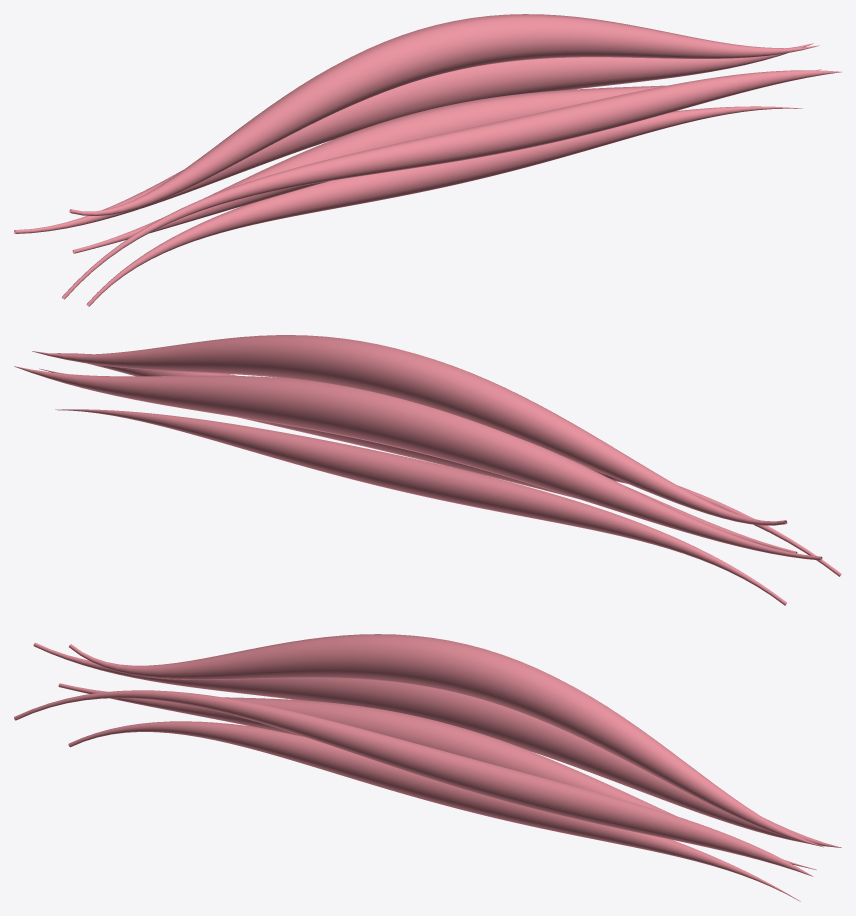
The model's file is Crina De Unicornio.fbx.
3 renders of one model, top to bottom at view 1: azimuth 30°, elevation 25°; view 2: azimuth 150°, elevation 25°; view 3: azimuth 330°, elevation 25°, orthographic.
Parts seen in each view (by area): view 1: Crina de Unicornio - Low; view 2: Crina de Unicornio - Low; view 3: Crina de Unicornio - Low.
Boxes of the visible parts, x1,y1,x2,y2 form: Crina de Unicornio - Low: (14,14,841,306); Crina de Unicornio - Low: (14,335,841,605); Crina de Unicornio - Low: (14,634,841,901).
Size of the model in its own units: 226 by 47.44 by 25.5.
